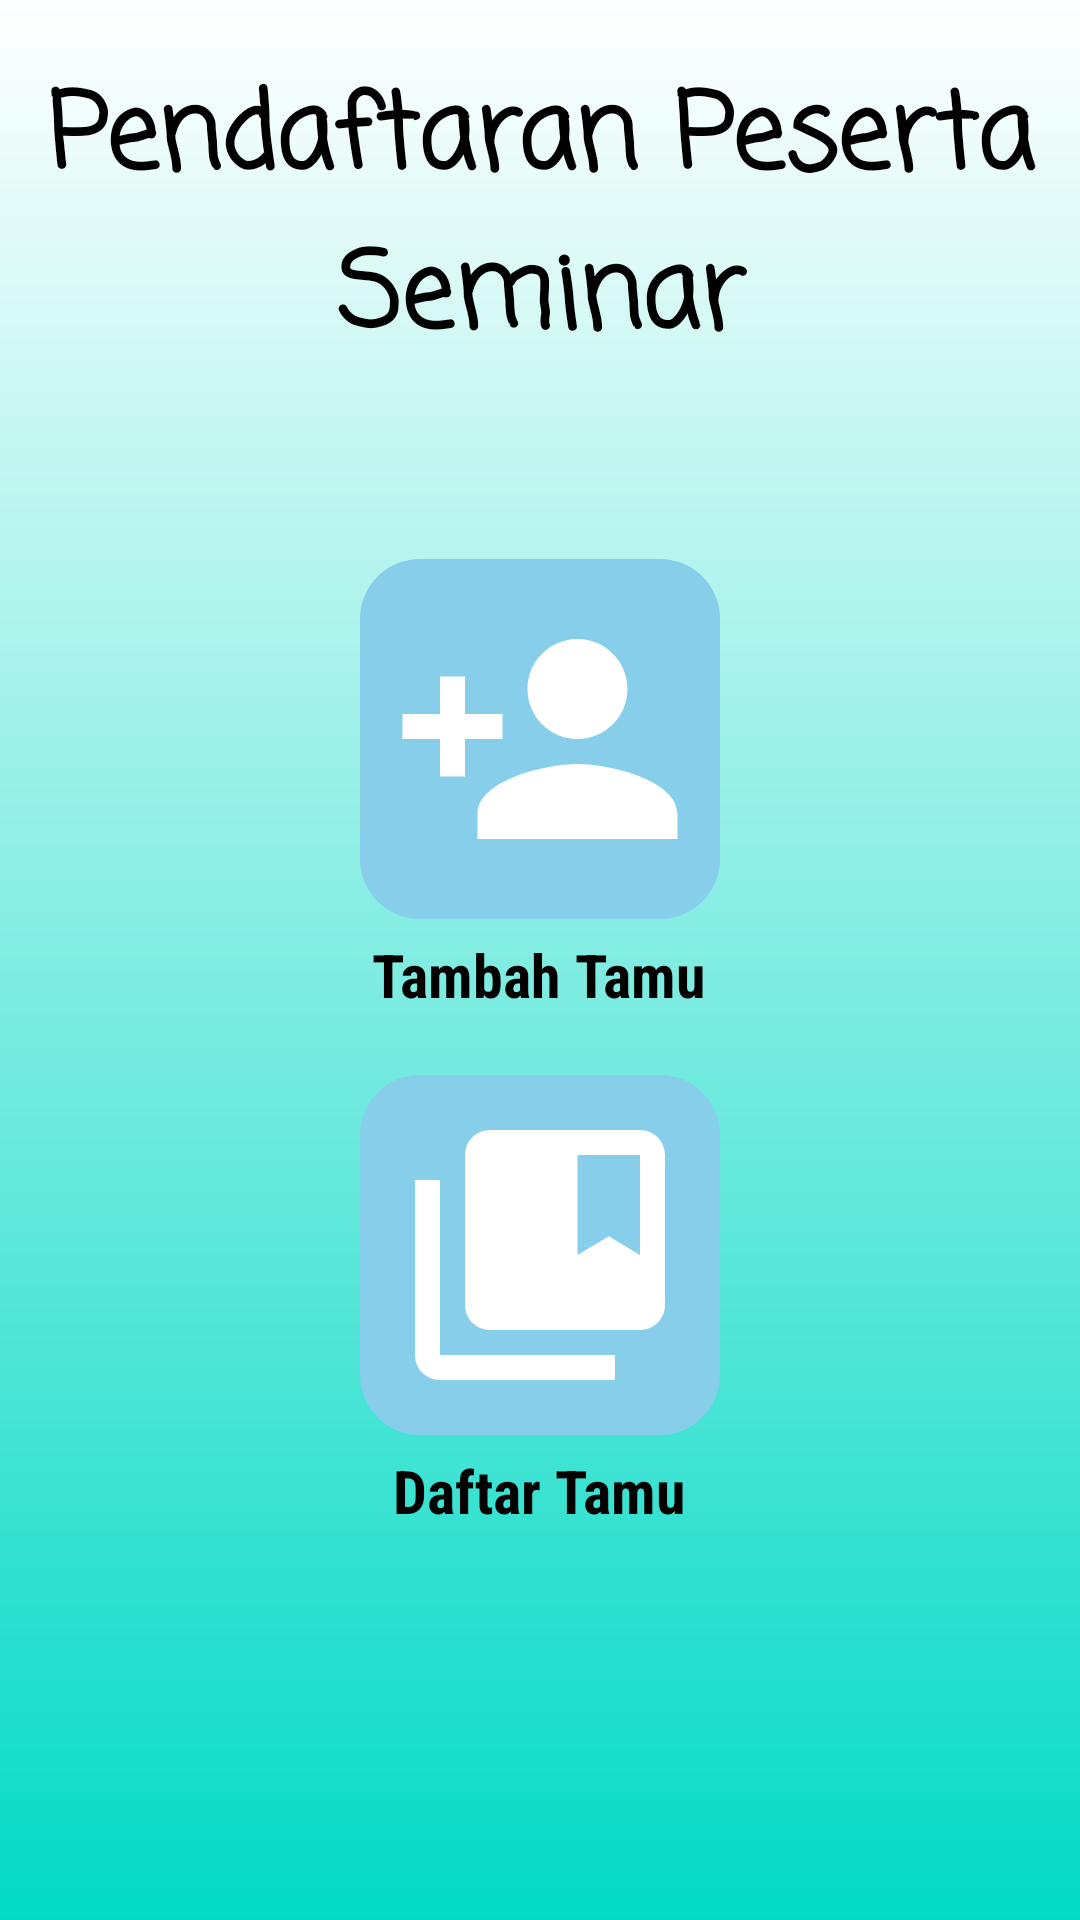

Where to tap for icons on this 1080×1920 app screen, as [x,y]:
person: [540,739]
